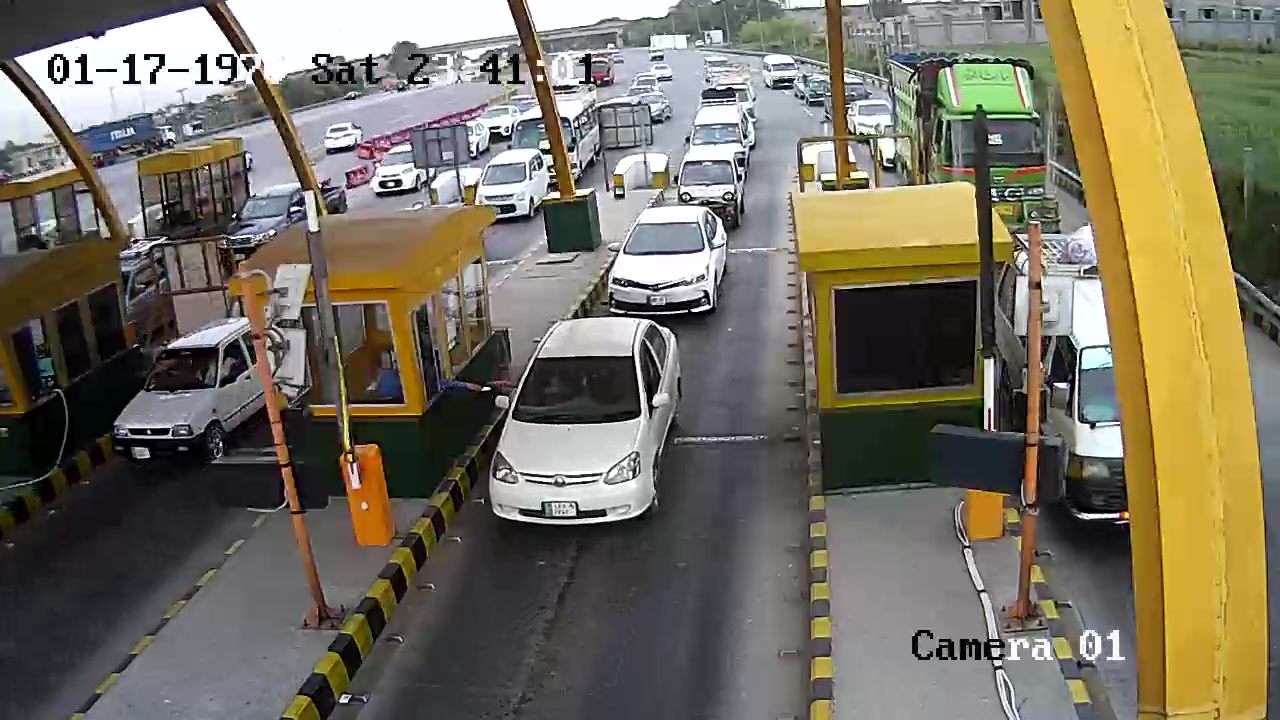F1: (485, 305, 692, 539)
